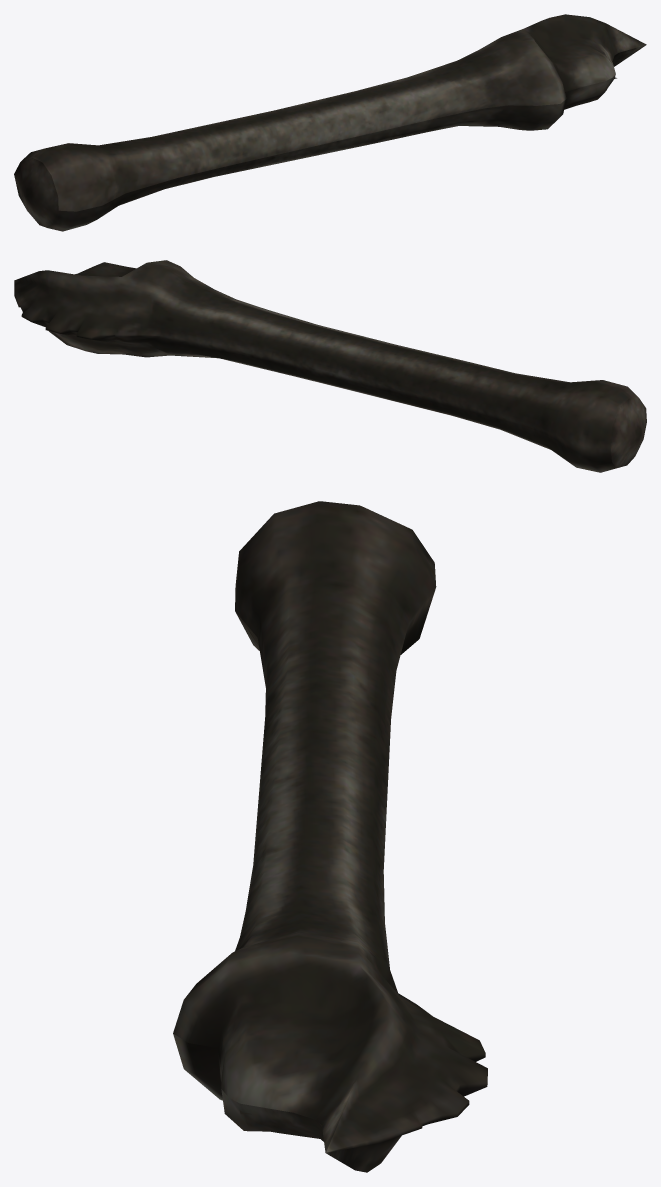
File: left_arm_0.obj
3 renders of one model, top to bottom at view 1: azimuth 30°, elevation 25°; view 2: azimuth 150°, elevation 25°; view 3: azimuth 270°, elevation 25°, orthographic. The views are drawn at different scales.
Visible parts, largest first — view 1: arm_1_izq_Material; view 2: arm_1_izq_Material; view 3: arm_1_izq_Material.
Part boxes in pixels (x1,y1,x2,y2): arm_1_izq_Material: (14, 14, 646, 231); arm_1_izq_Material: (14, 260, 646, 472); arm_1_izq_Material: (173, 501, 487, 1172).
Size of the model in its own units: 0.2928 by 0.0375 by 0.0645.
